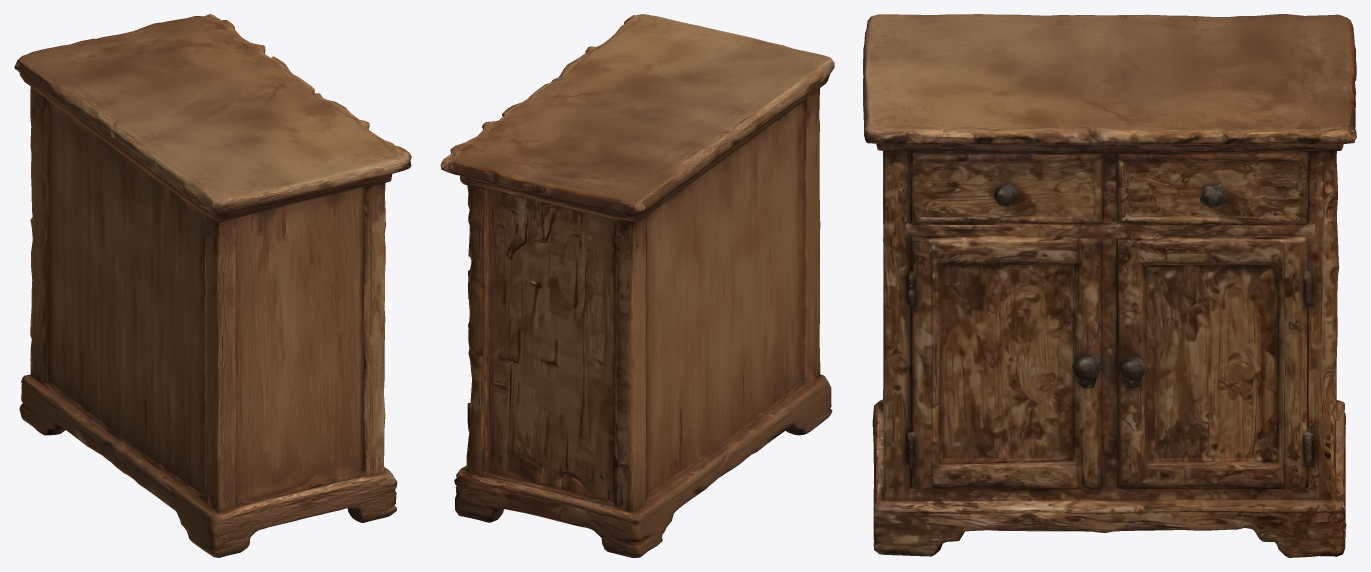
File: scene-sideboard-v03.glb
The picture shows the model from 3 angles, left to right: view 1: azimuth 30°, elevation 25°; view 2: azimuth 150°, elevation 25°; view 3: azimuth 270°, elevation 25°; orthographic projection. The views are drawn at different scales.
Parts seen in each view (by area): view 1: tripo_node_62ef6194-ff6a-4321-a0aa-4d849ae5fabf; view 2: tripo_node_62ef6194-ff6a-4321-a0aa-4d849ae5fabf; view 3: tripo_node_62ef6194-ff6a-4321-a0aa-4d849ae5fabf.
Part boxes in pixels (x1=…): tripo_node_62ef6194-ff6a-4321-a0aa-4d849ae5fabf: x1=14, y1=14, x2=411, y2=557; tripo_node_62ef6194-ff6a-4321-a0aa-4d849ae5fabf: x1=440, y1=14, x2=834, y2=557; tripo_node_62ef6194-ff6a-4321-a0aa-4d849ae5fabf: x1=863, y1=14, x2=1356, y2=557.
Bounding box in the file's own units: 0.6238 × 1.05 × 1.07.
Materials: 1 (1 with a texture image).
